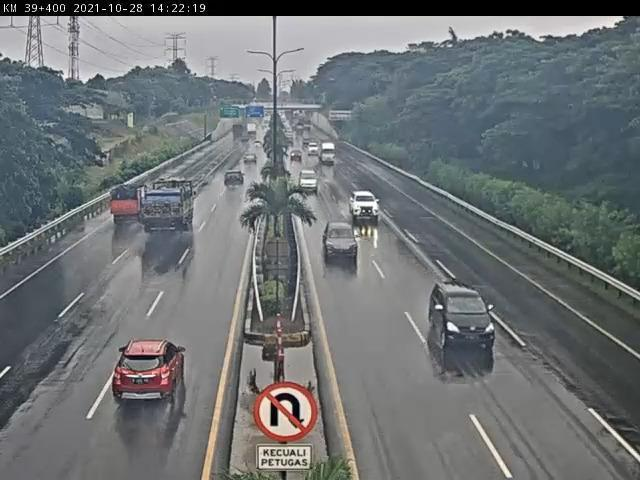car: (427, 281, 497, 351), (112, 340, 186, 403), (323, 221, 357, 258), (350, 192, 381, 220), (224, 172, 247, 191), (300, 170, 319, 193)
truck: (138, 180, 196, 231), (110, 184, 148, 218)
